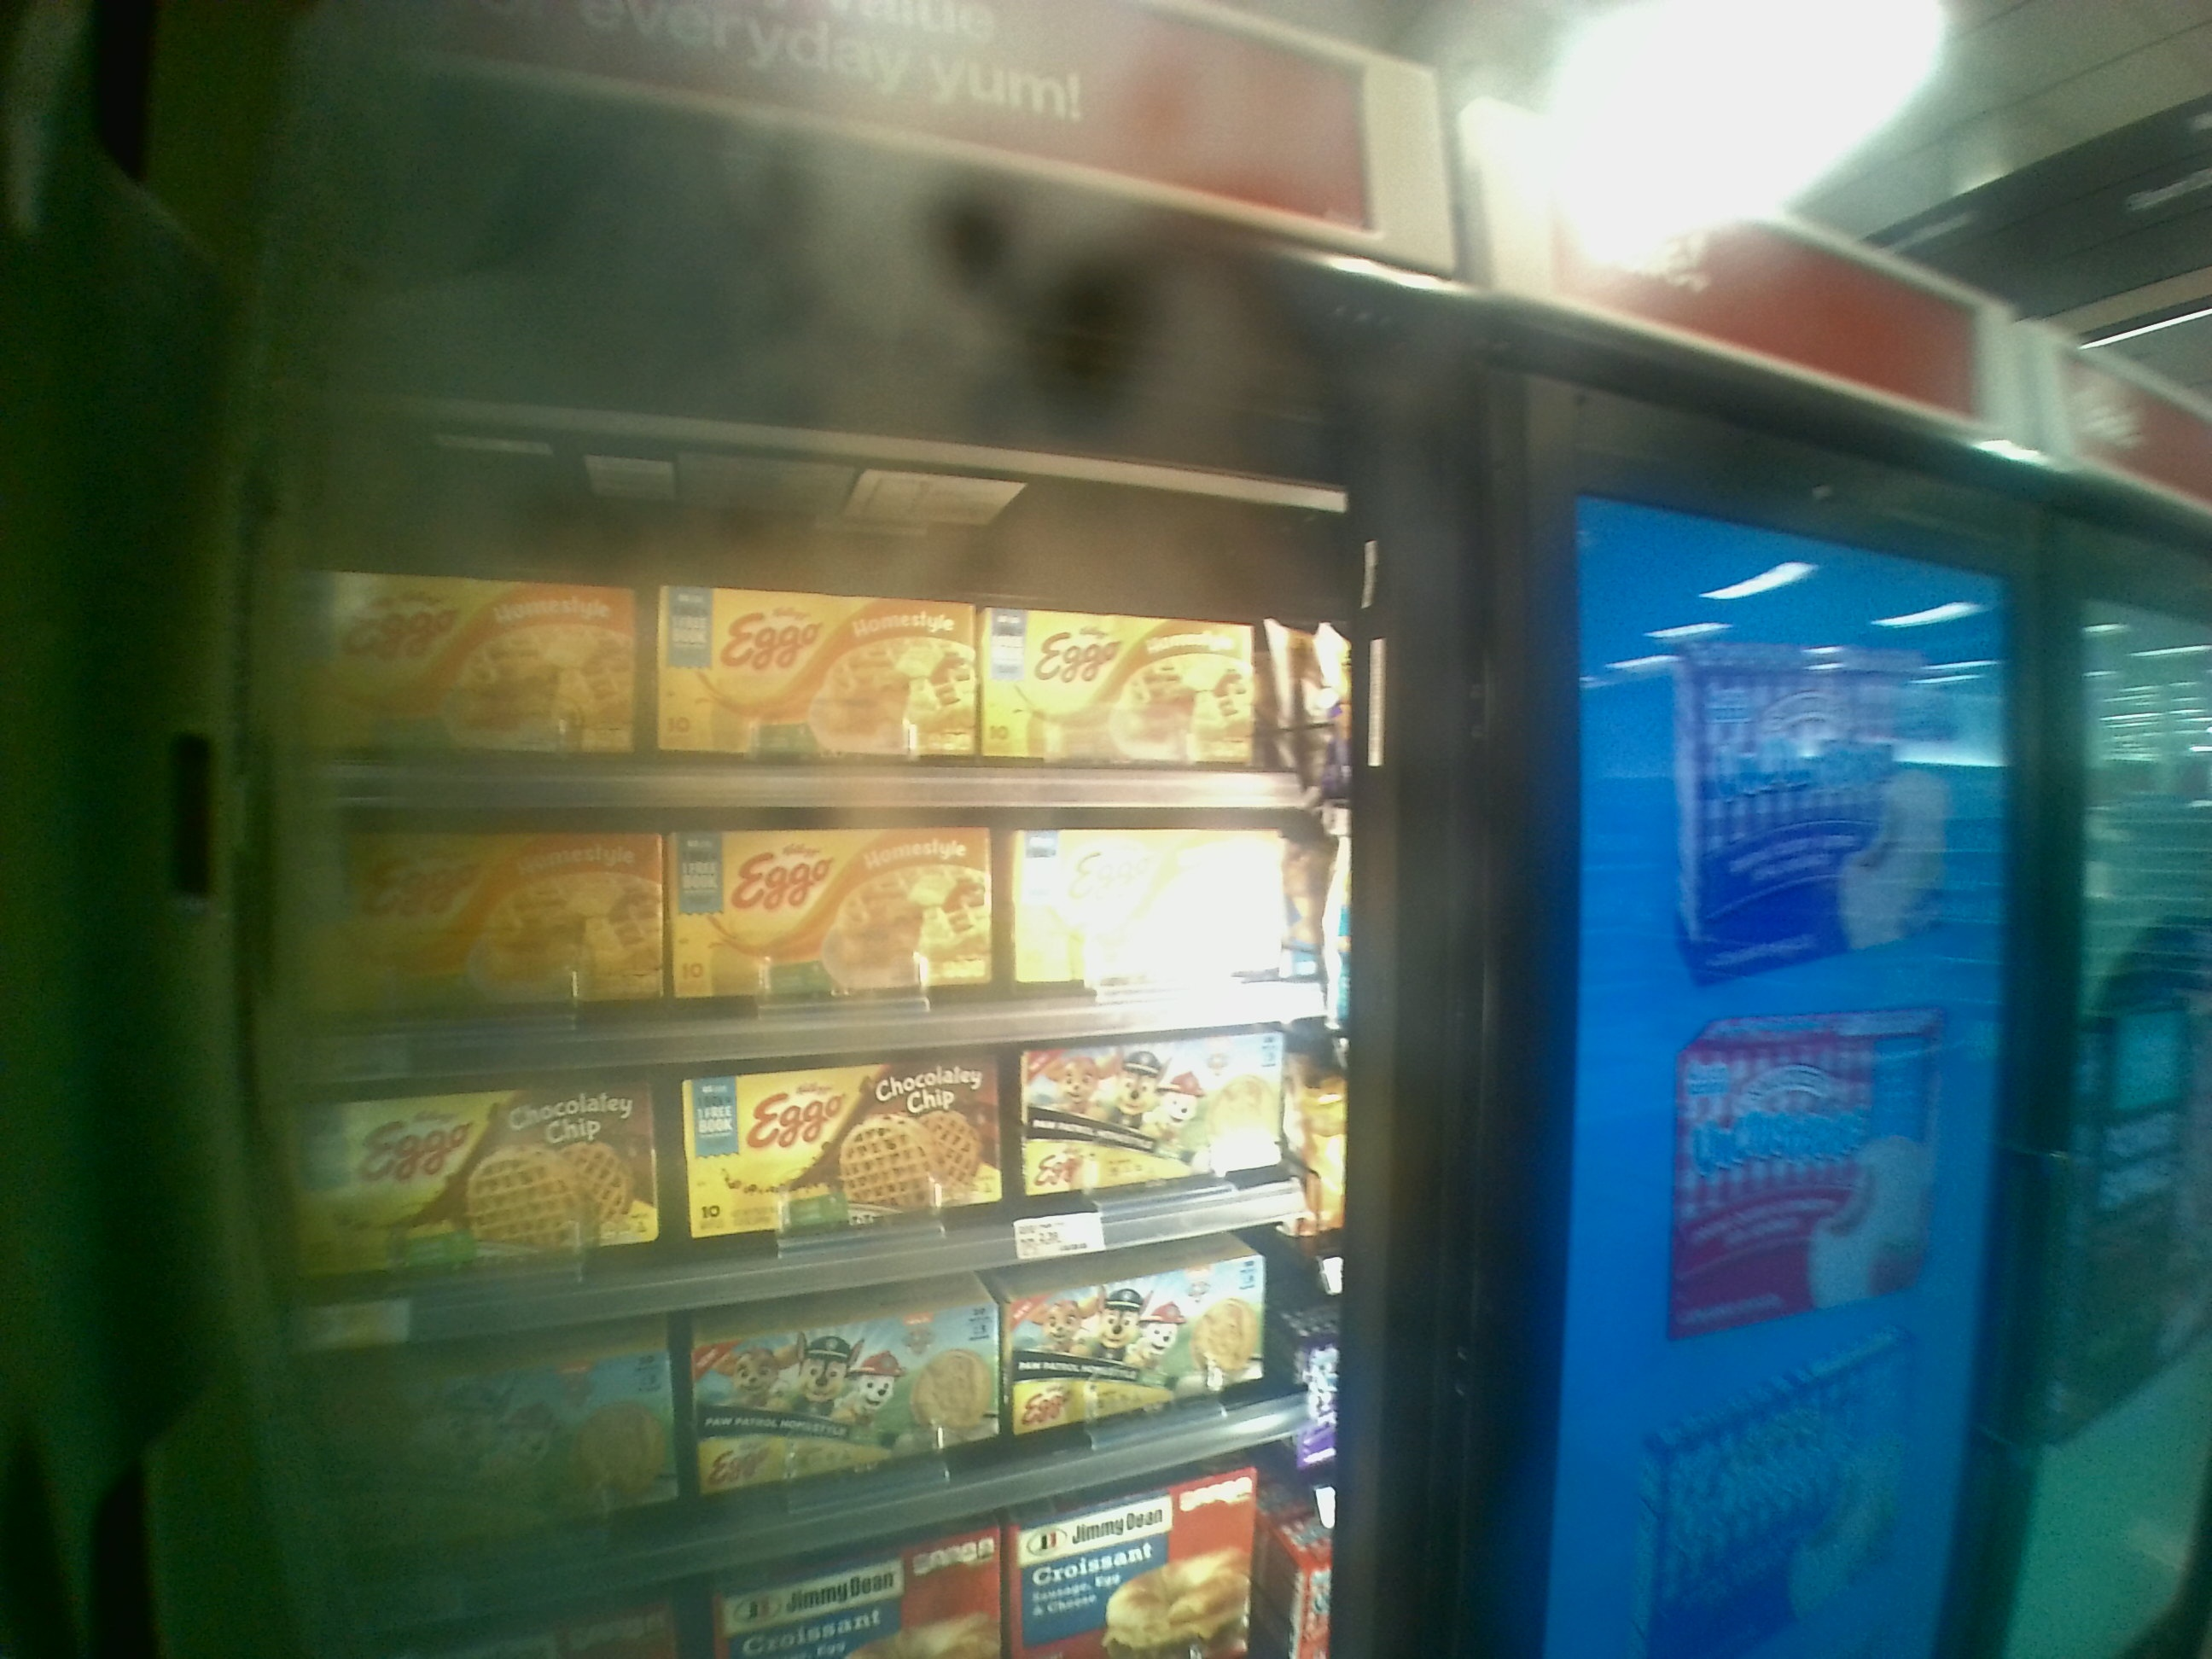shelf: (270, 1014, 1339, 1351), (286, 500, 1315, 812), (280, 814, 1367, 1080)
